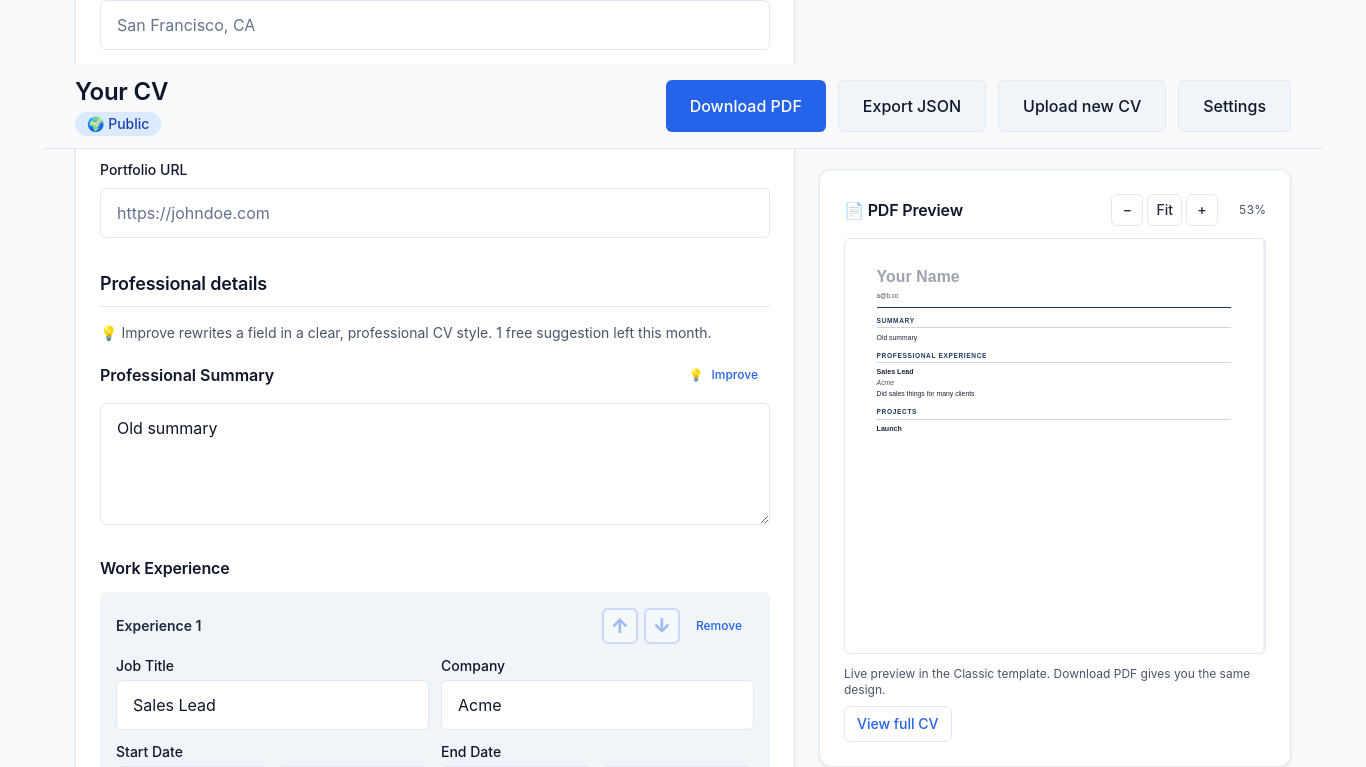
💡 summary › suggests a new summary when the field is empty, after saving pending edits
This screenshot has width=1366, height=767.
(page scrolled)
Clear the text box labelled "Professional Summary" at (435, 464), box [100,403,770,525]
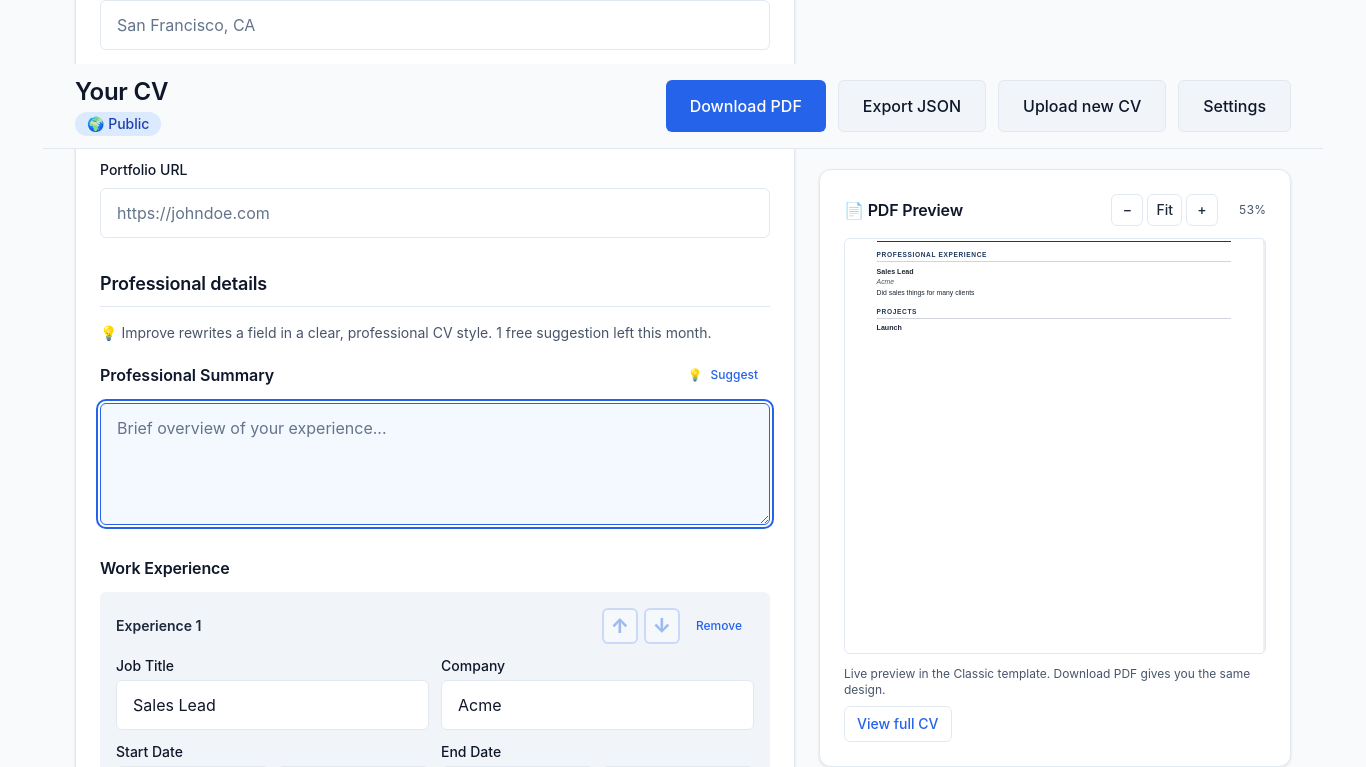
Click the button with aria-label "Suggest Professional Summary" at (723, 375), box [676,359,770,391]
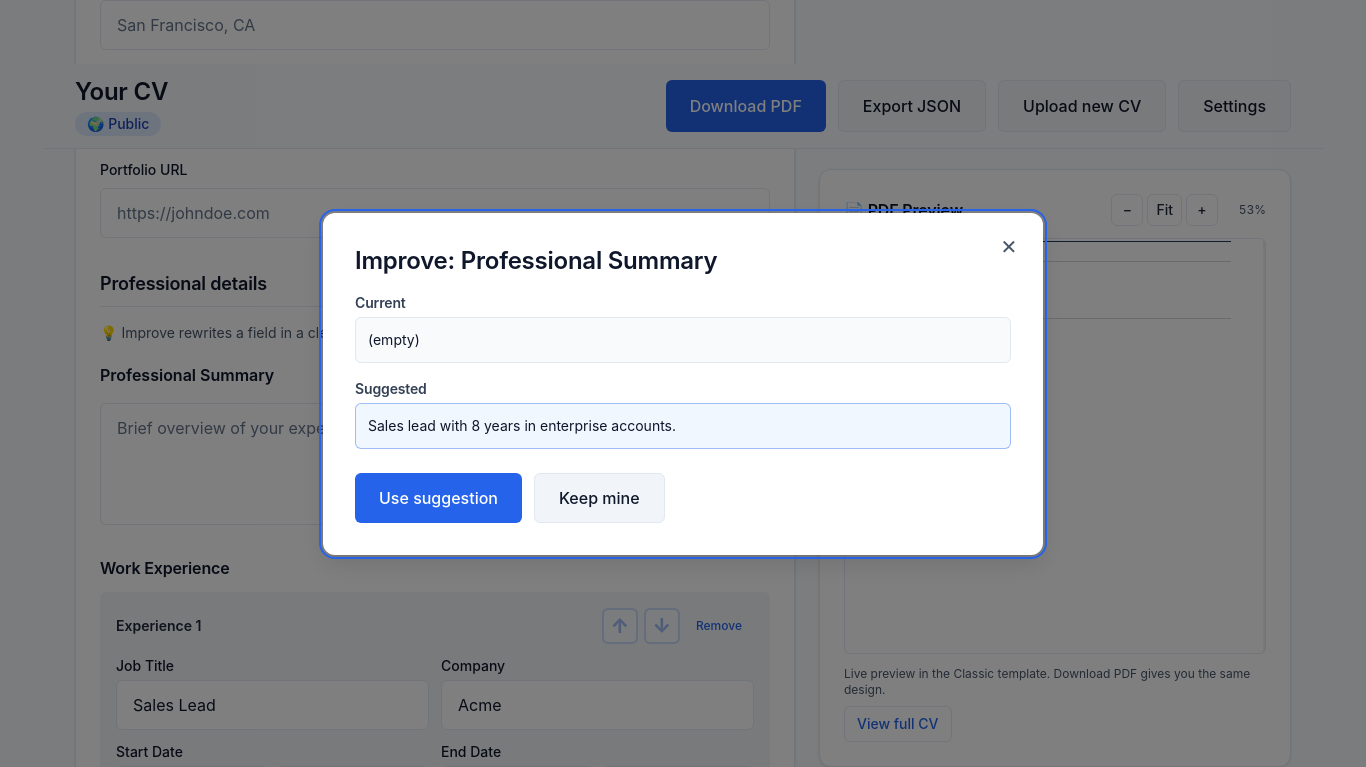
Check: the element "Current" shows "(empty)", box [368,331,420,348]
Click the button "Use suggestion" at (438, 498), box [355,473,522,523]
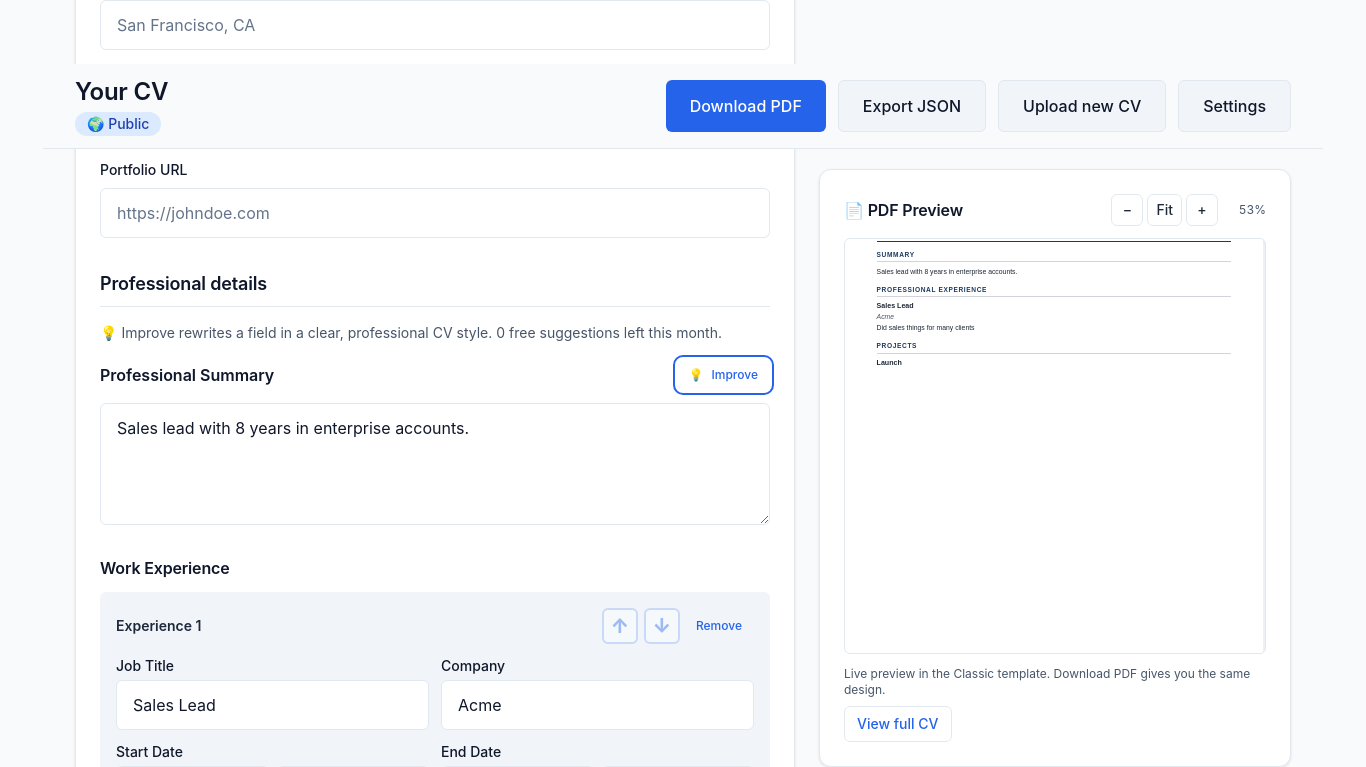
Check: the text box labelled "Professional Summary" holds "Sales lead with 8 years in enterprise accounts.", box [100,403,770,525]
